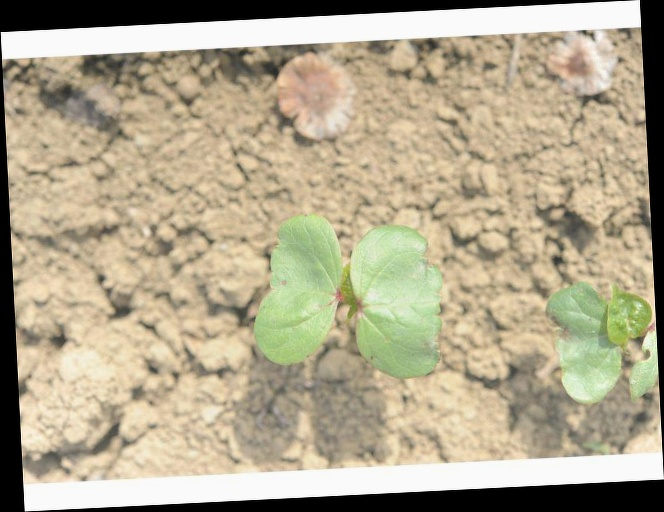cotton: (251, 208, 443, 383), (545, 280, 654, 405)
